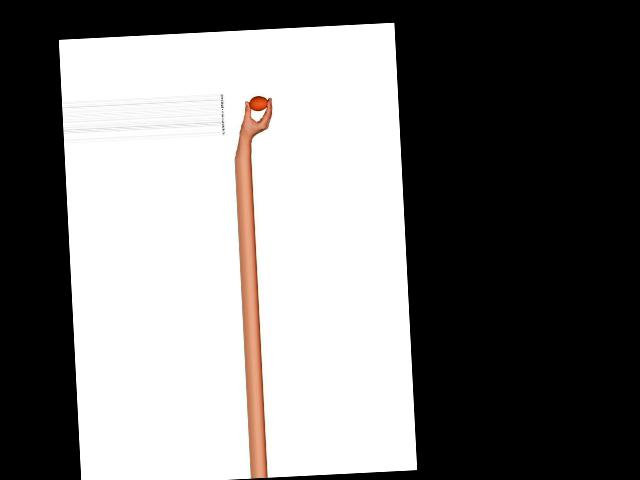egg: (248, 95, 269, 110)
